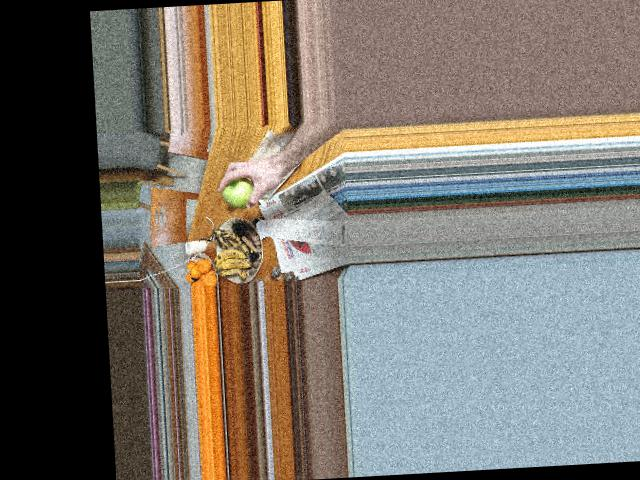apple: (221, 173, 262, 208)
